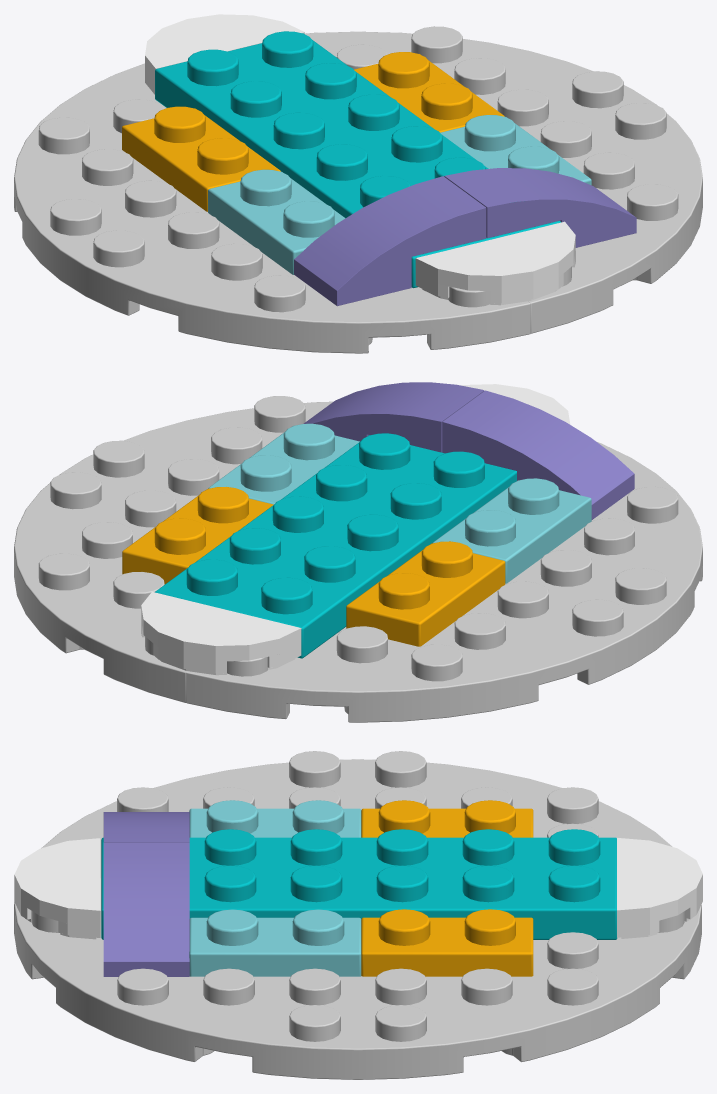
The model's file is Passo 5.fbx.
3 views of the same model, one above another, from view 1: azimuth 30°, elevation 25°; view 2: azimuth 150°, elevation 25°; view 3: azimuth 270°, elevation 25° (orthographic).
Parts seen in each view (by area): view 1: Plate_round_4x8_1.003, Plate_round_4x8.004, Plate_2x6.004, Slope_curved_2x1_Inverted__1_.001, Slope_curved_2x1_Inverted.001, Tile_round_1x2.002, Plate_1x2__3_, Plate_1x2__2_, Plate_1x2, Tile_round_1x2__1_.002, Plate_1x2__1_; view 2: Plate_round_4x8_1.003, Plate_round_4x8.004, Plate_2x6.004, Slope_curved_2x1_Inverted__1_.001, Plate_1x2__3_, Tile_round_1x2__1_.002, Plate_1x2__2_, Slope_curved_2x1_Inverted.001, Plate_1x2, Plate_1x2__1_, Tile_round_1x2.002; view 3: Plate_round_4x8.004, Plate_2x6.004, Plate_round_4x8_1.003, Slope_curved_2x1_Inverted.001, Plate_1x2, Plate_1x2__1_, Tile_round_1x2.002, Tile_round_1x2__1_.002, Plate_1x2__2_, Plate_1x2__3_, Slope_curved_2x1_Inverted__1_.001.
Part boxes in pixels (left/top/right/bottom): Plate_round_4x8_1.003: left=14, top=63, right=530, bottom=353; Plate_round_4x8.004: left=305, top=26, right=702, bottom=333; Plate_2x6.004: left=155, top=31, right=560, bottom=288; Slope_curved_2x1_Inverted__1_.001: left=294, top=176, right=486, bottom=306; Slope_curved_2x1_Inverted.001: left=444, top=168, right=636, bottom=247; Tile_round_1x2.002: left=415, top=221, right=575, bottom=305; Plate_1x2__3_: left=122, top=106, right=280, bottom=211; Plate_1x2__2_: left=208, top=169, right=345, bottom=274; Plate_1x2: left=354, top=52, right=504, bottom=132; Tile_round_1x2__1_.002: left=145, top=14, right=304, bottom=94; Plate_1x2__1_: left=440, top=115, right=591, bottom=185; Plate_round_4x8_1.003: left=186, top=442, right=702, bottom=722; Plate_round_4x8.004: left=14, top=396, right=332, bottom=702; Plate_2x6.004: left=155, top=433, right=516, bottom=658; Slope_curved_2x1_Inverted__1_.001: left=442, top=390, right=634, bottom=519; Plate_1x2__3_: left=346, top=541, right=505, bottom=646; Tile_round_1x2__1_.002: left=141, top=592, right=301, bottom=675; Plate_1x2__2_: left=433, top=478, right=591, bottom=583; Slope_curved_2x1_Inverted.001: left=303, top=382, right=484, bottom=452; Plate_1x2: left=122, top=487, right=273, bottom=584; Plate_1x2__1_: left=208, top=423, right=359, bottom=504; Tile_round_1x2.002: left=461, top=384, right=570, bottom=424; Plate_round_4x8.004: left=14, top=904, right=701, bottom=1079; Plate_2x6.004: left=101, top=829, right=617, bottom=939; Plate_round_4x8_1.003: left=14, top=751, right=672, bottom=933; Slope_curved_2x1_Inverted.001: left=103, top=842, right=189, bottom=976; Plate_1x2: left=361, top=909, right=533, bottom=976; Plate_1x2__1_: left=189, top=909, right=361, bottom=976; Tile_round_1x2.002: left=14, top=838, right=100, bottom=939; Tile_round_1x2__1_.002: left=617, top=838, right=702, bottom=938; Plate_1x2__2_: left=189, top=800, right=361, bottom=837; Plate_1x2__3_: left=361, top=800, right=533, bottom=837; Slope_curved_2x1_Inverted__1_.001: left=103, top=812, right=189, bottom=842.
Size of the model in its own units: 0.6392 by 0.0961 by 0.6409.
